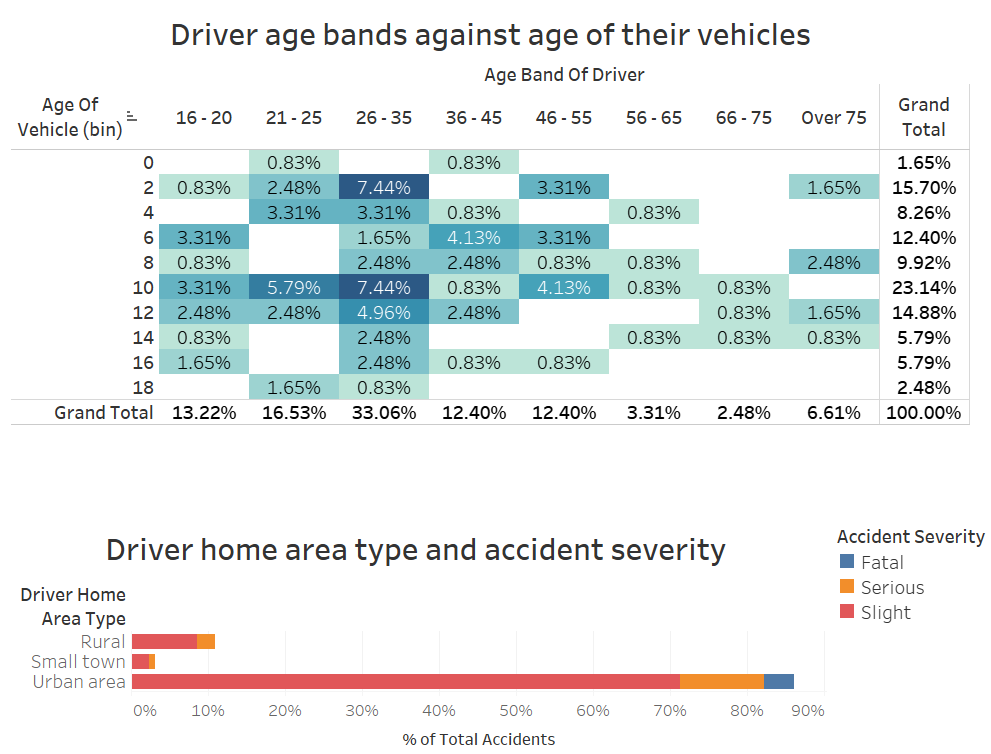

Layout of this report page (visuals, bound fields, positions):
{"tool":"tableau","page":{"name":"Dashboard 1","canvas":[1000,800],"ordinal":0},"visuals":[{"type":"worksheet","title":"driver/vehicle age freq table","mark":"Square","rows":["Age Of Vehicle (bin)"],"cols":["age_band_of_driver"],"box":[8,8,984,515.3]},{"type":"worksheet","title":"severity/ driver home area type","mark":"Automatic","rows":["driver_home_area_type"],"box":[8,523.3,824,268.7]},{"type":"legend","title":"severity/ driver home area type","param":"[federated.1burw491qa618a1gbfqk60vix0jh].[none:accident_severity:nk]","box":[832,523.3,160,268.7]}]}

Visuals, with their boxes on the page's 1000x800 design canvas (x1, y1, x2, y2). These are canvas units, not pixel positions in the 991x754 screenshot, which may show the page scaled, cropped or inside an application window:
"driver/vehicle age freq table" worksheet (Square marks): box=[8, 8, 992, 523]
"severity/ driver home area type" worksheet: box=[8, 523, 832, 792]
"severity/ driver home area type" legend: box=[832, 523, 992, 792]
